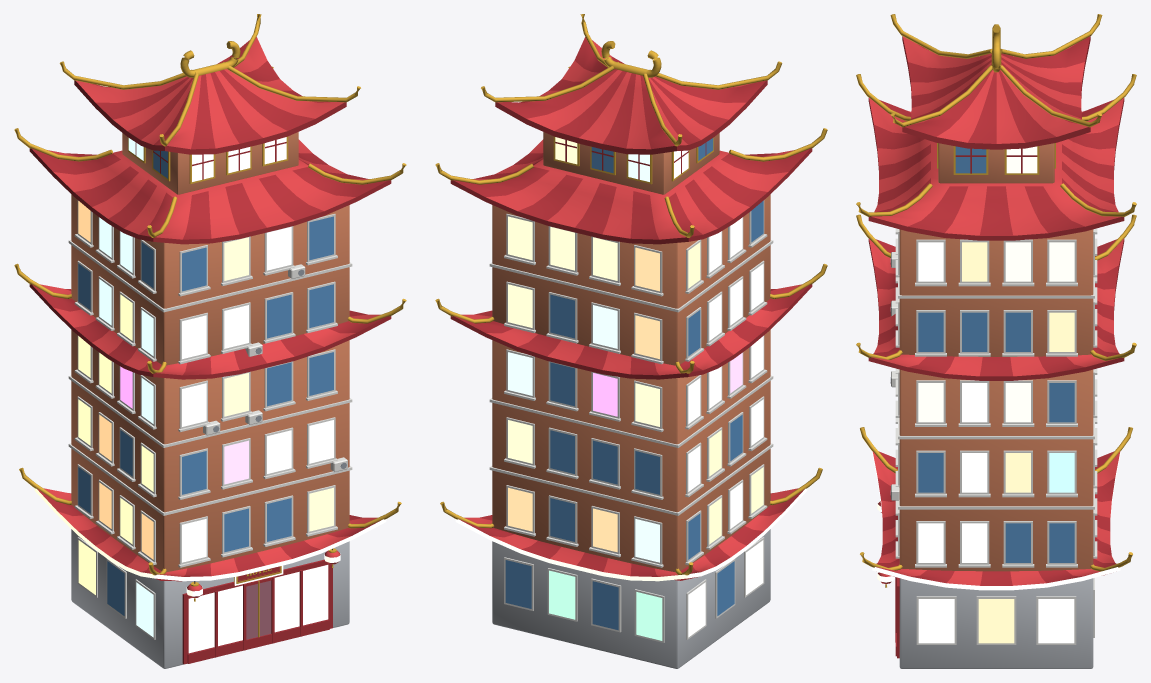
The model's file is edificio_beirais_vermelho.glb.
The picture shows the model from 3 angles, left to right: view 1: azimuth 30°, elevation 25°; view 2: azimuth 150°, elevation 25°; view 3: azimuth 270°, elevation 25°; orthographic projection. The views are drawn at different scales.
Visible parts, largest first — view 1: edificio_beirais_vermelho; view 2: edificio_beirais_vermelho; view 3: edificio_beirais_vermelho.
Boxes of the visible parts, <box> form: edificio_beirais_vermelho: <box>14,14,406,668</box>; edificio_beirais_vermelho: <box>435,14,827,668</box>; edificio_beirais_vermelho: <box>856,14,1136,668</box>.
Size of the model in its own units: 12.76 by 26.74 by 11.58.
10 materials, 2 textured.
